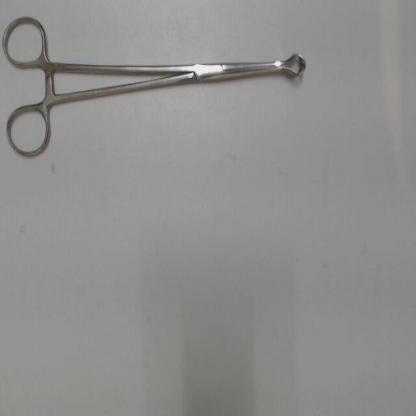8 Babcock Tissue Forceps: (0, 7, 312, 160)
